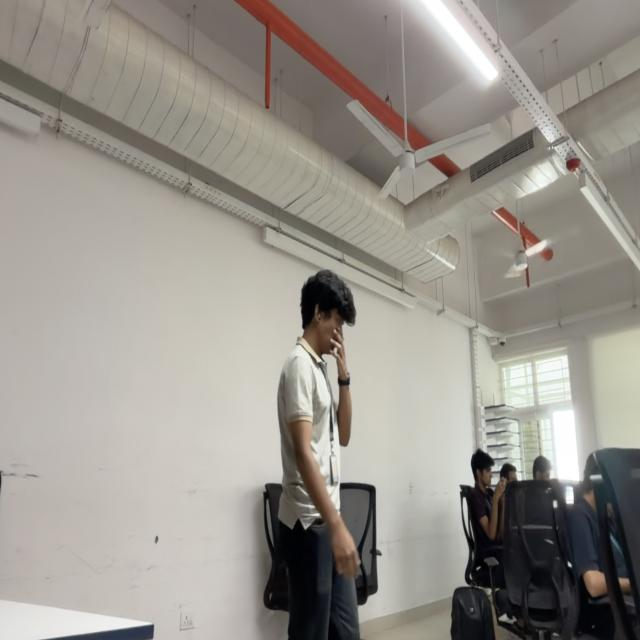kshitij: (302, 268, 355, 352)
